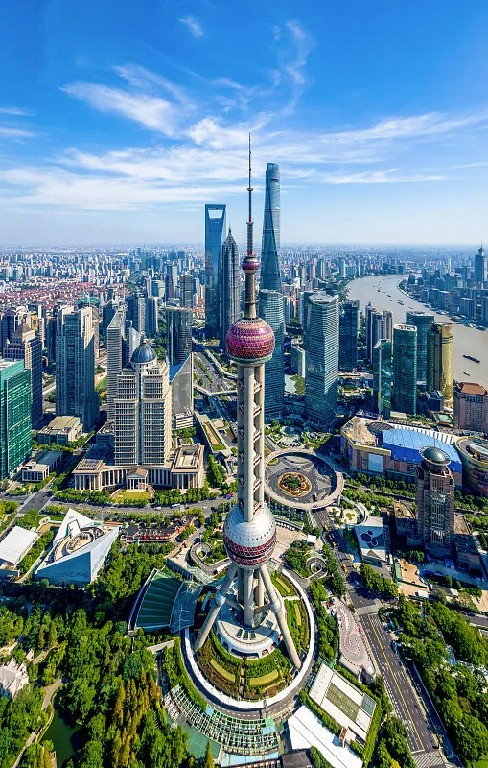Oriental: (192, 133, 302, 667)
